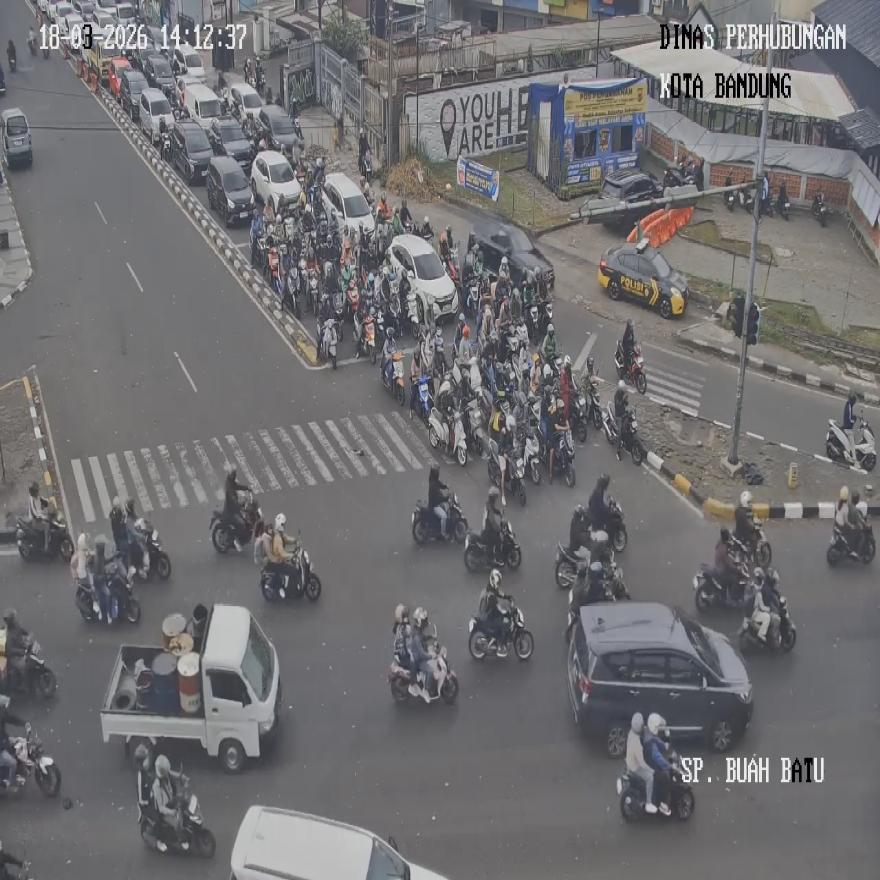Motor: (566, 601, 754, 759), (229, 805, 448, 880)
Truk: (138, 776, 215, 859), (616, 753, 693, 821), (564, 562, 619, 644), (0, 722, 59, 797), (390, 643, 458, 704), (468, 599, 534, 660), (76, 564, 141, 624), (261, 542, 321, 602), (0, 637, 56, 700), (739, 592, 797, 652), (464, 515, 521, 573), (15, 510, 74, 561), (826, 507, 876, 567), (209, 501, 264, 554), (412, 492, 467, 542), (693, 558, 748, 608), (125, 523, 171, 582), (826, 416, 876, 470), (603, 404, 644, 464), (427, 404, 468, 464), (487, 441, 525, 504), (548, 426, 576, 488), (462, 397, 487, 457), (615, 344, 646, 392), (581, 375, 604, 438), (382, 348, 405, 404), (410, 372, 432, 426), (528, 298, 552, 347), (315, 315, 337, 368), (354, 310, 375, 362), (281, 266, 302, 316), (264, 244, 281, 294), (742, 184, 766, 218), (405, 292, 421, 340), (305, 266, 320, 316), (345, 282, 360, 330), (773, 186, 790, 220), (811, 191, 827, 226), (724, 178, 738, 212), (359, 152, 373, 184), (6, 39, 17, 72), (27, 28, 38, 56)
